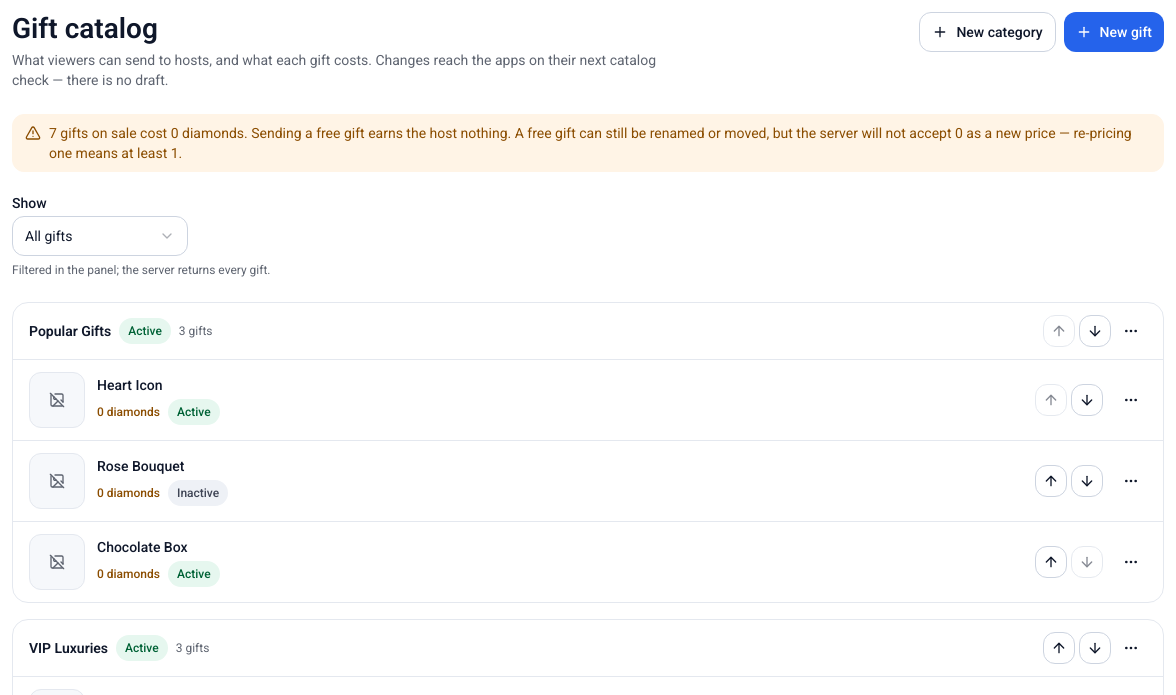
Test: the active filter is client-side › hides active gifts on Inactive only, and says why a category is empty
Check: the heading "Popular Gifts" is shown, box [29, 321, 111, 341]
Click the dropdown named "Show" at x=100, y=236, box [12, 216, 188, 256]
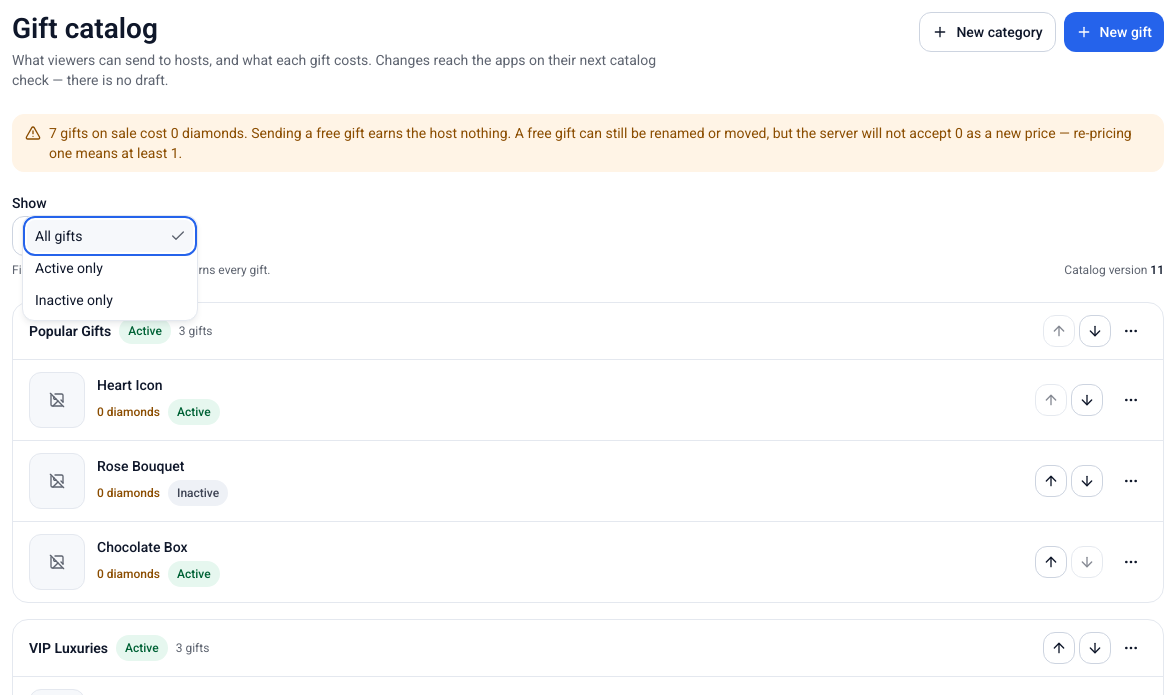
Click the option "Inactive only" at x=74, y=300, box [35, 292, 113, 308]
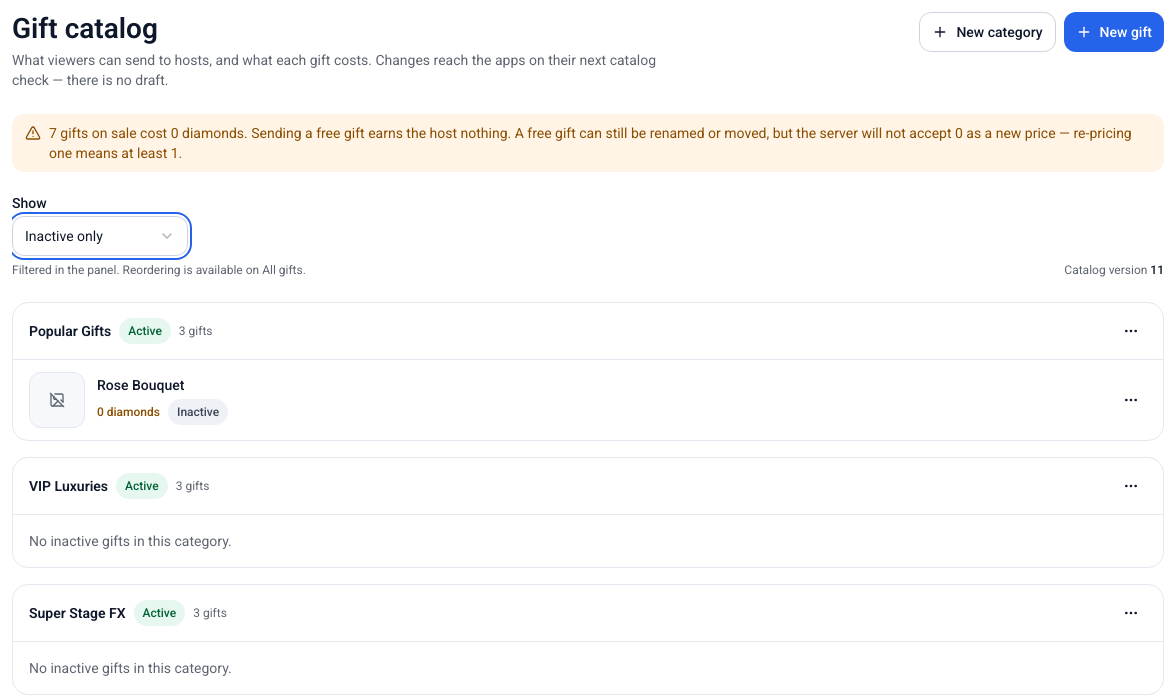
Check: the text "No inactive gifts in this category." is shown 2 times, box [29, 533, 232, 549]; [29, 660, 232, 676]
